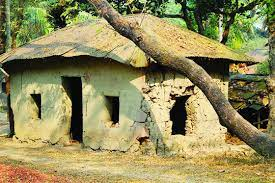Mud House: (5, 15, 238, 161)
